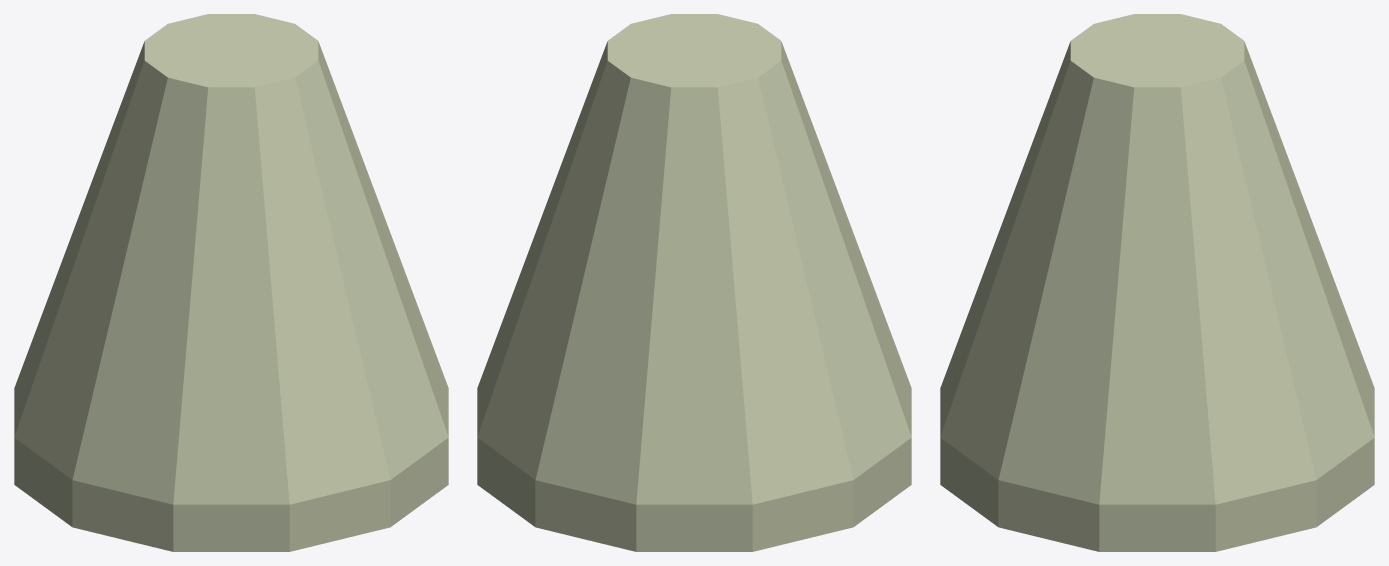
The model's file is red_herald_probe_core_s0_1_collider.obj.
3 renders of one model, left to right at view 1: azimuth 30°, elevation 25°; view 2: azimuth 150°, elevation 25°; view 3: azimuth 270°, elevation 25°, orthographic.
Visible parts, largest first — view 1: collider; view 2: collider; view 3: collider.
Boxes of the visible parts, <box> form: collider: <box>14,14,448,551</box>; collider: <box>477,14,911,551</box>; collider: <box>940,14,1374,551</box>.
Bounding box in the file's own units: 0.625 × 0.65 × 0.625.
